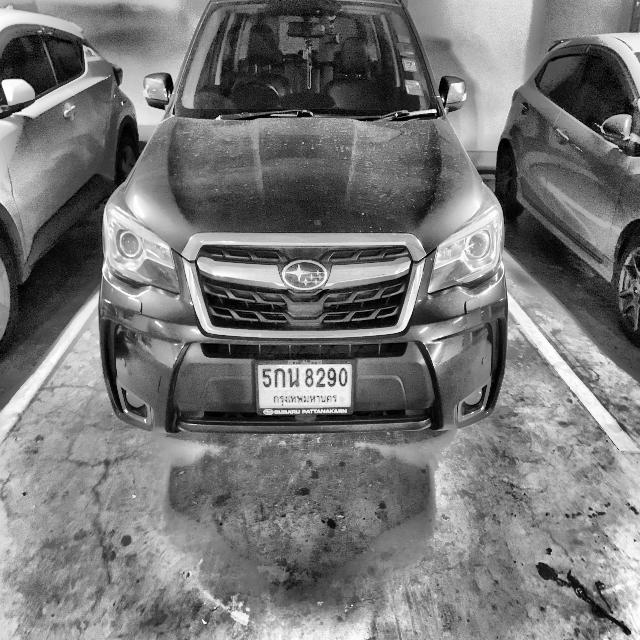license-plate: (252, 361, 356, 421)
